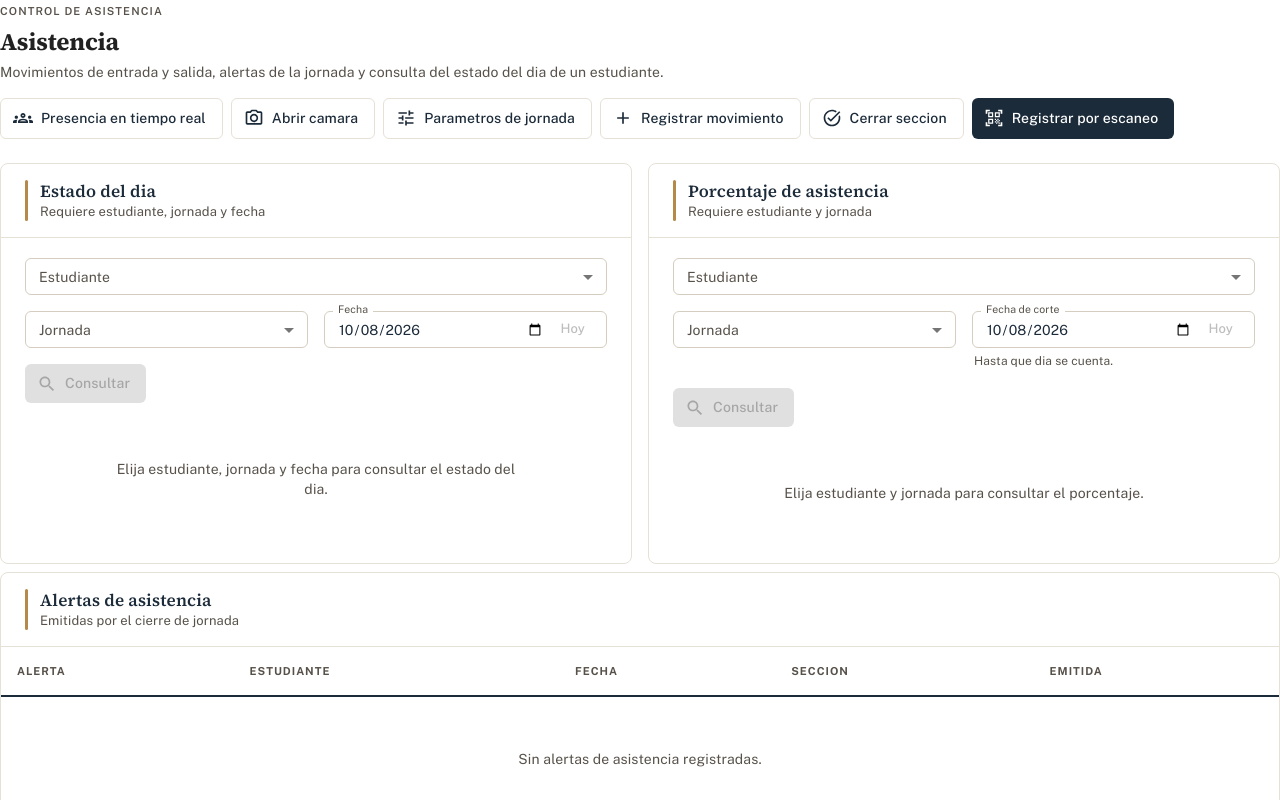
Test case: AttendancePage — cierre declarado por cobertura › muestra la confirmacion visible antes del cierre por cobertura
Click the button "Cerrar seccion".
click(886, 118)  # box [808, 98, 964, 138]
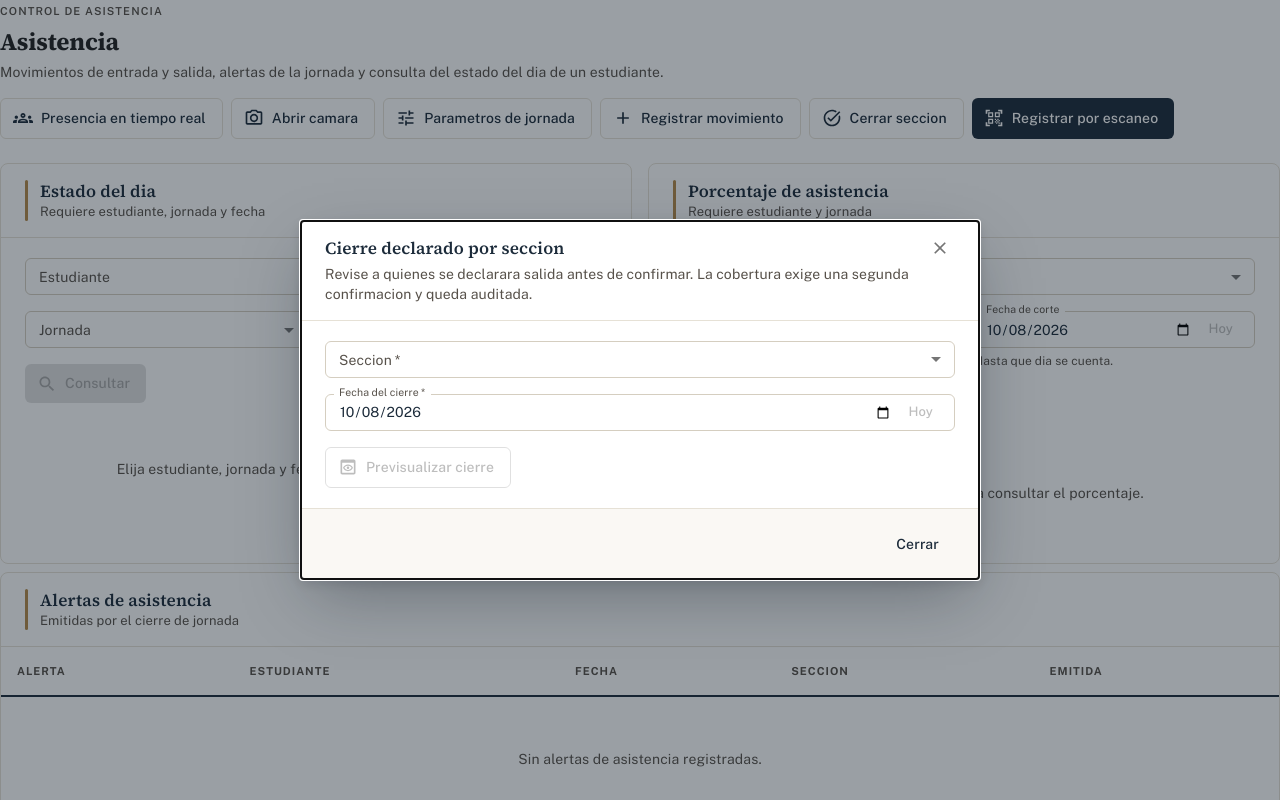
Click the dropdown named "Seccion".
click(640, 359)  # box [325, 341, 955, 378]
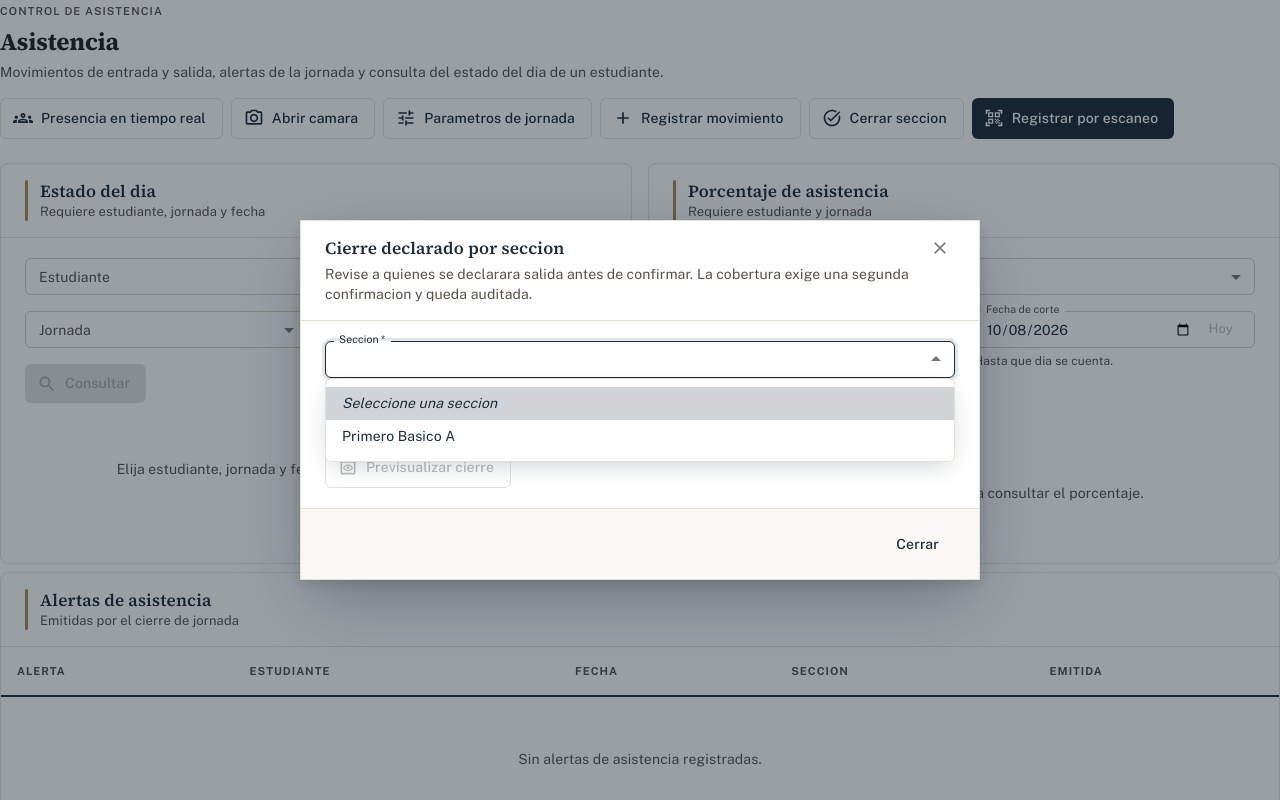
Click the option "Primero Basico A".
click(399, 436)  # box [342, 428, 455, 444]
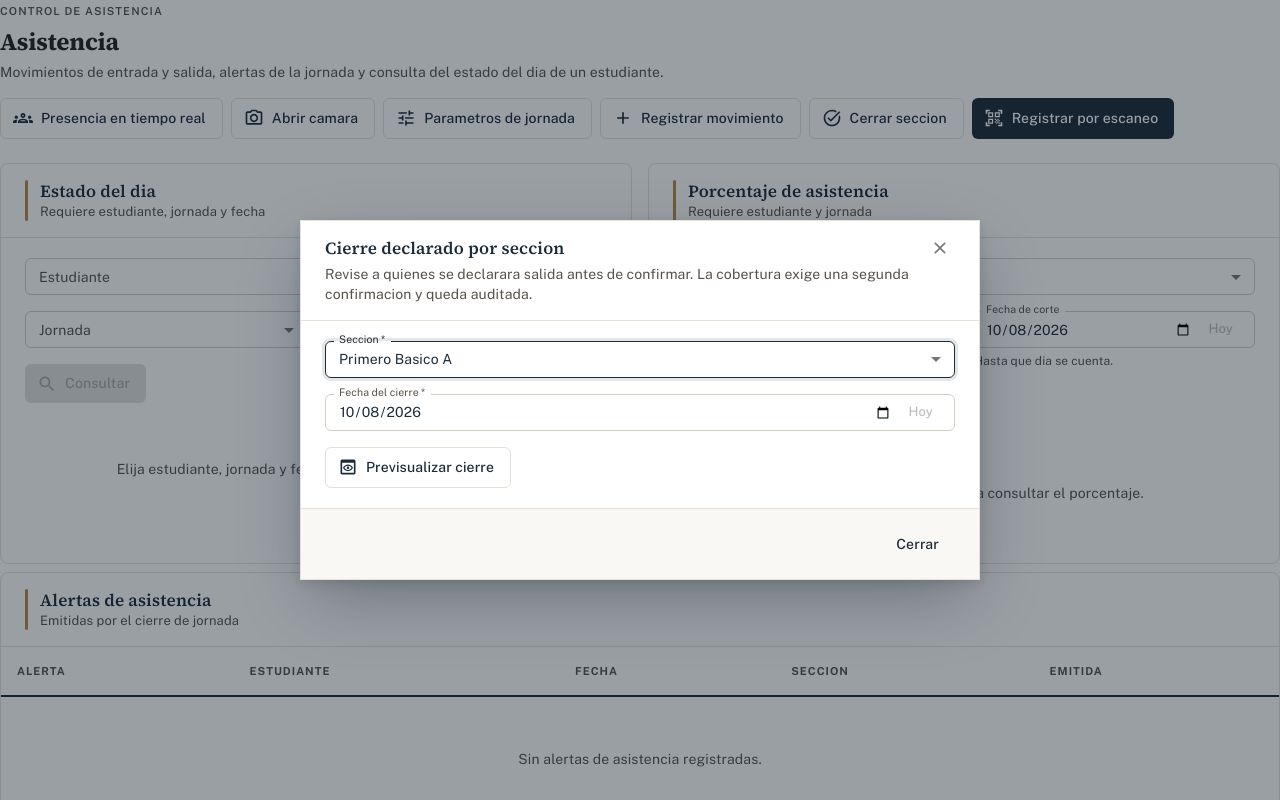
Click the button "Previsualizar cierre".
click(418, 467)  # box [325, 447, 511, 488]
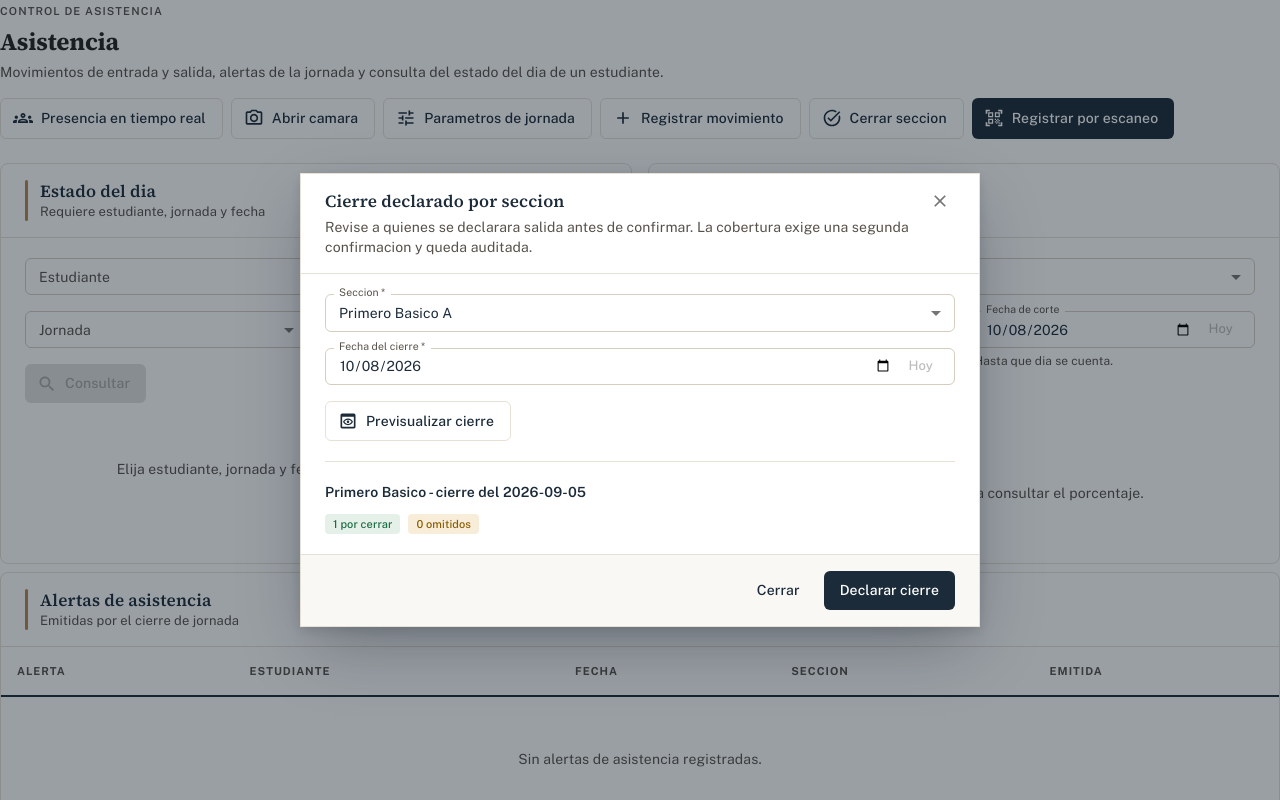
Expected: the text "1 por cerrar" is shown, [333, 518, 392, 530]
Click the button "Declarar cierre".
click(889, 590)  # box [824, 571, 955, 610]
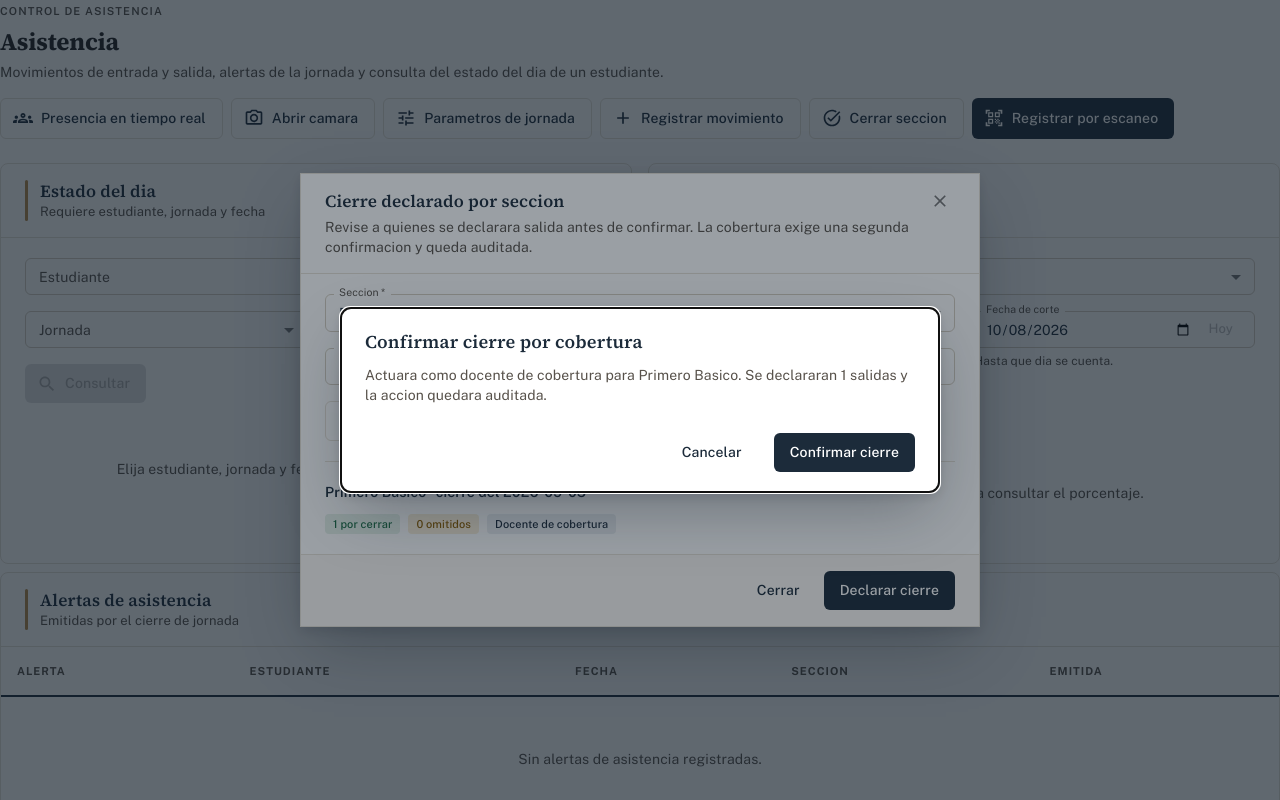
Expected: the text "Actuara como docente de cobertura" is shown, [365, 367, 908, 403]
Click the button "Confirmar cierre".
click(844, 452)  # box [774, 433, 915, 472]
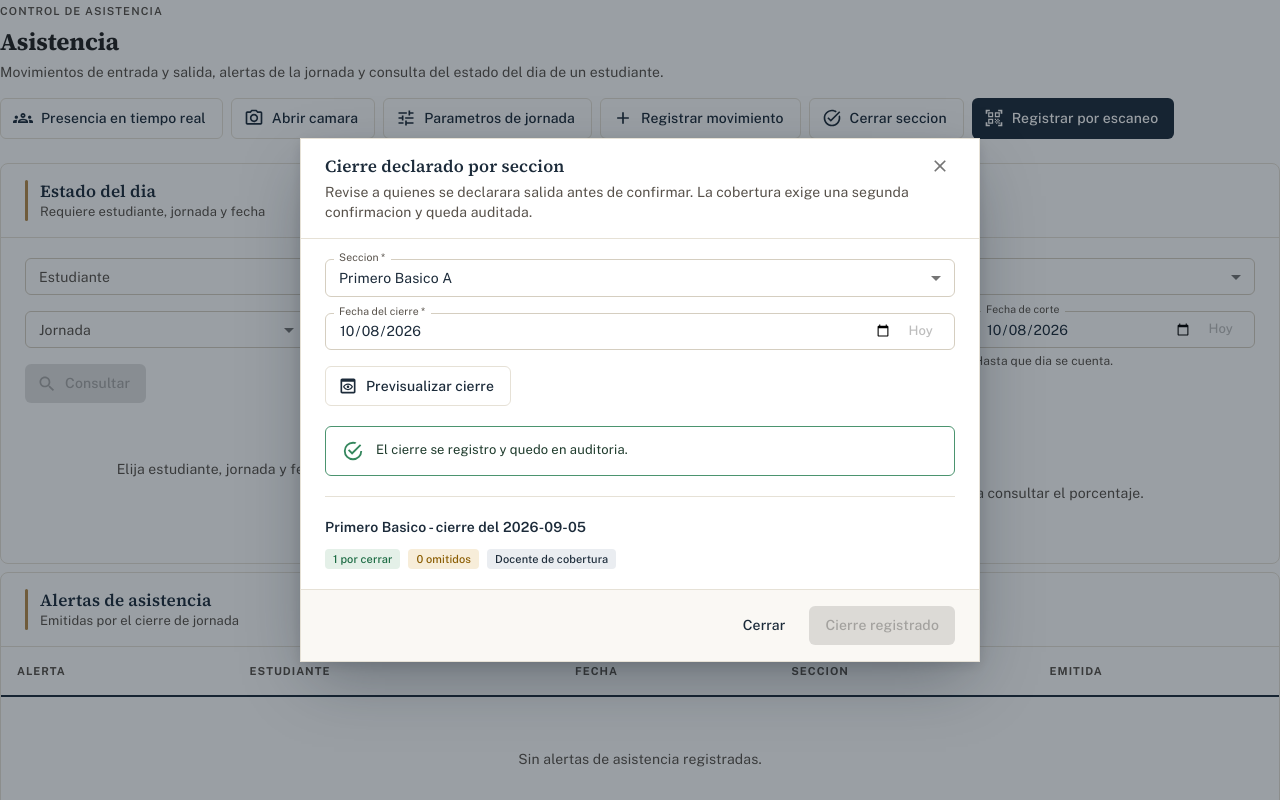
Expected: the text "El cierre se registro y quedo en auditoria." is shown, [376, 442, 628, 457]
